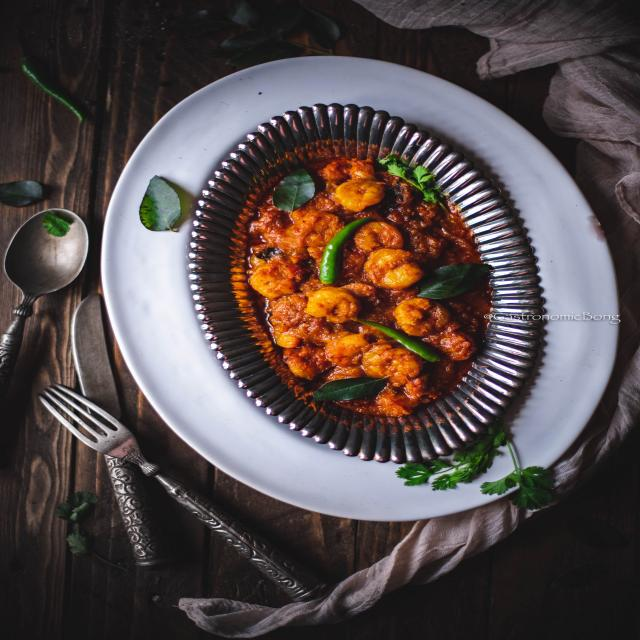prawn thokku: (215, 152, 502, 420)
